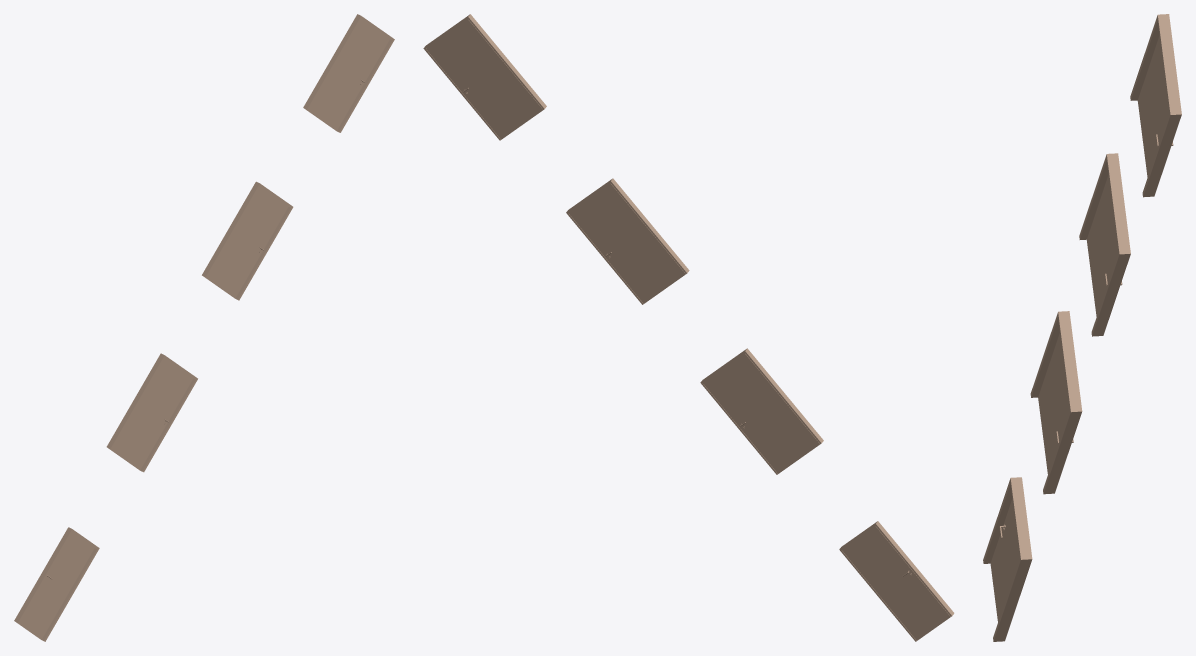
3 renders of one model, left to right at view 1: azimuth 30°, elevation 25°; view 2: azimuth 150°, elevation 25°; view 3: azimuth 270°, elevation 25°, orthographic. The views are drawn at different scales.
Parts seen in each view (by area): view 1: mesh; view 2: mesh; view 3: mesh.
Part boxes in pixels (x1,y1,x2,y2): mesh: [14, 14, 394, 641]; mesh: [423, 14, 954, 641]; mesh: [983, 14, 1181, 641].
Bounding box in the file's own units: 9.28 × 10.51 × 1.97.
